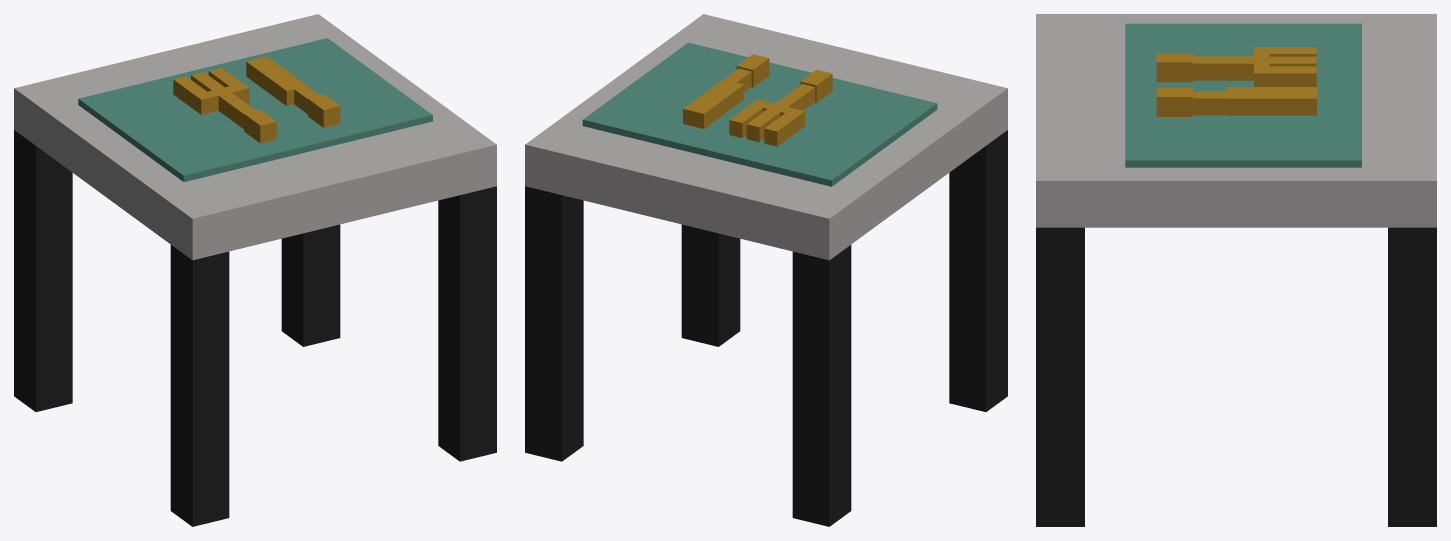
The model's file is scene_utensil.fbx.
3 views of the same model, side by side, from view 1: azimuth 30°, elevation 25°; view 2: azimuth 150°, elevation 25°; view 3: azimuth 270°, elevation 25° (orthographic). The views are drawn at different scales.
Visible parts, largest first — view 1: mesh_utensil; view 2: mesh_utensil; view 3: mesh_utensil.
Part boxes in pixels (x1,y1,x2,y2): mesh_utensil: [14, 14, 496, 526]; mesh_utensil: [525, 14, 1007, 526]; mesh_utensil: [1036, 14, 1436, 526].
Bounding box in the file's own units: 0.7878 × 0.8223 × 0.8.
